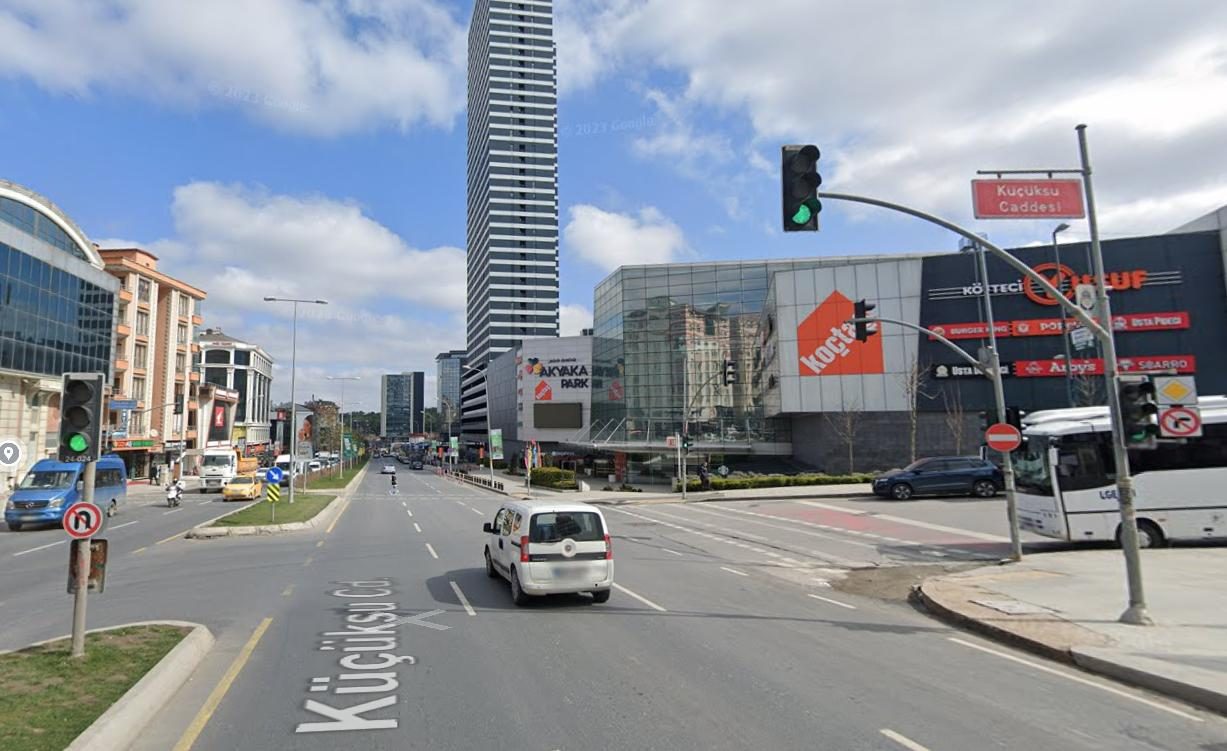greenlight: (781, 144, 821, 227), (64, 373, 99, 455)
rightturnsareforbidden: (1159, 408, 1202, 436)
